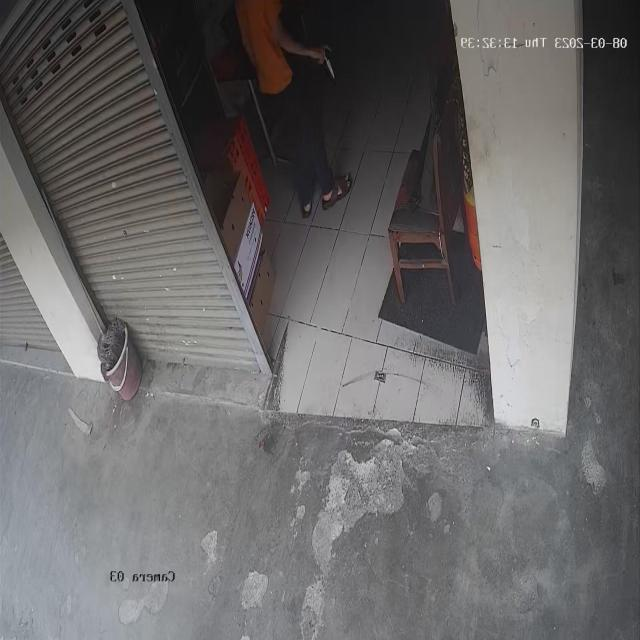Knife: (317, 41, 354, 84)
